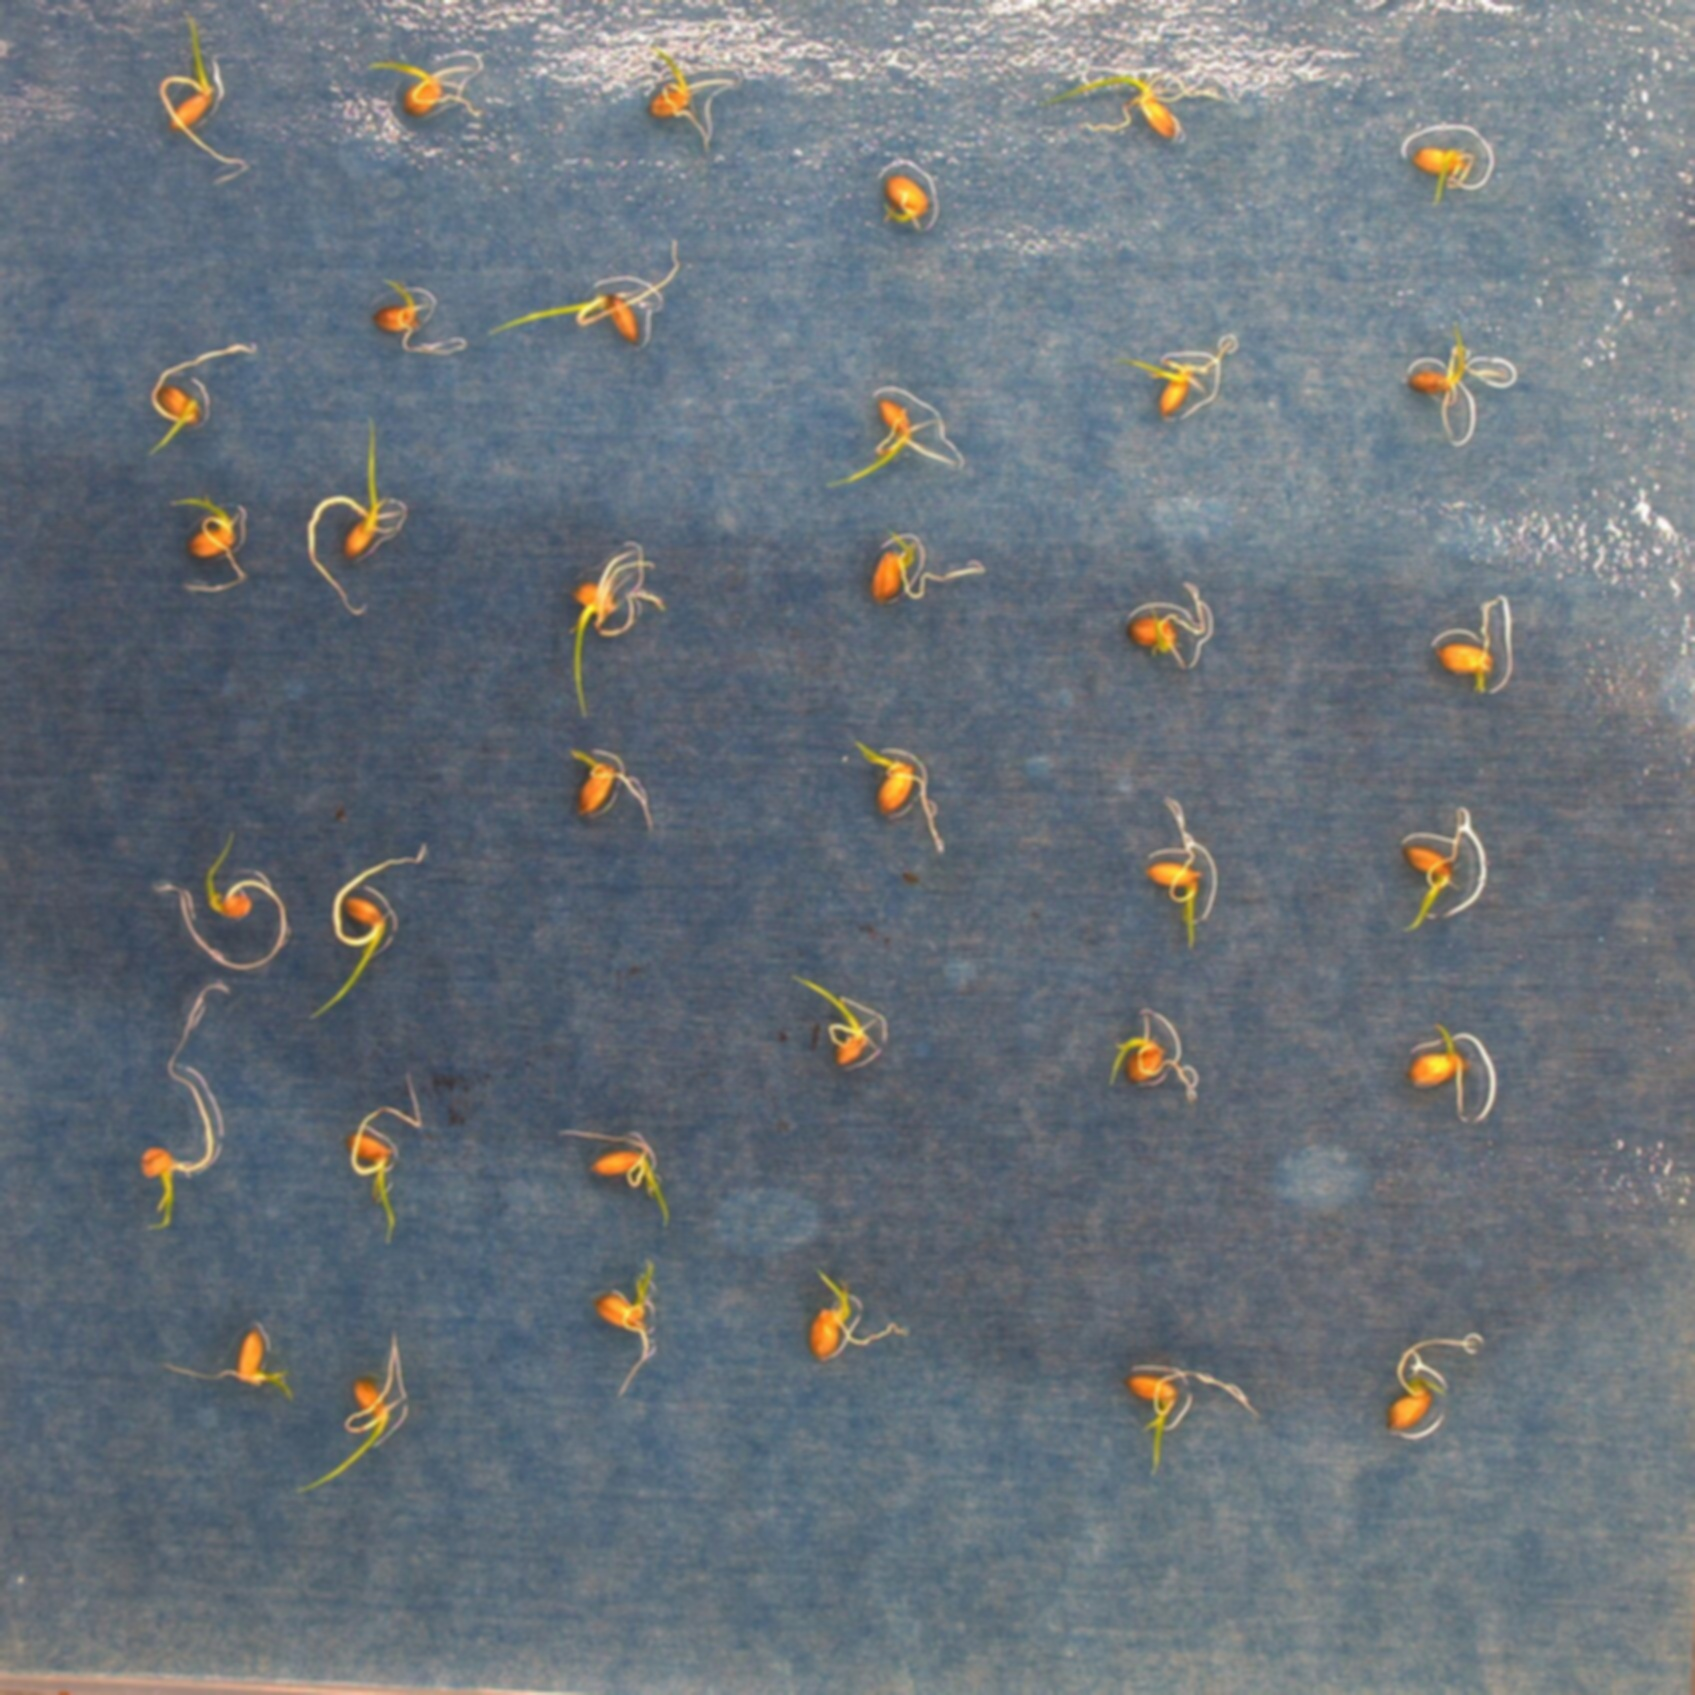not sprout: (1426, 594, 1498, 692)
sprout: (141, 979, 231, 1229), (494, 239, 683, 348), (307, 847, 421, 1020), (295, 1333, 411, 1495), (307, 414, 397, 615), (568, 537, 671, 709), (174, 826, 290, 970), (1132, 1367, 1260, 1478), (158, 19, 245, 180), (135, 345, 258, 455), (824, 397, 955, 492), (352, 1073, 419, 1250), (560, 1127, 675, 1229), (158, 1319, 296, 1399), (854, 737, 945, 854), (1023, 79, 1178, 143), (1139, 796, 1205, 945), (594, 1256, 660, 1403), (1405, 320, 1506, 414), (1394, 1333, 1485, 1433), (1130, 328, 1234, 414), (869, 528, 987, 604), (809, 1271, 906, 1361), (646, 47, 726, 154), (1397, 810, 1467, 931), (792, 976, 882, 1066), (1107, 1010, 1194, 1101), (365, 54, 484, 120), (369, 275, 469, 352), (565, 750, 657, 834), (1125, 581, 1208, 667), (171, 495, 244, 591), (1409, 1026, 1473, 1121), (1411, 143, 1471, 206), (875, 175, 931, 227)
